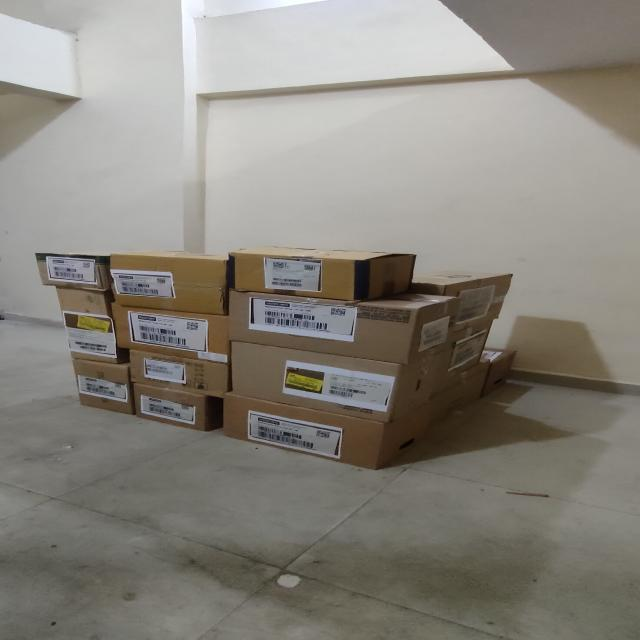BoxFace: (228, 340, 400, 422), (226, 293, 417, 363), (224, 393, 382, 469), (105, 250, 228, 314), (109, 303, 230, 363), (226, 252, 365, 302), (51, 285, 121, 363), (126, 348, 230, 396), (72, 358, 133, 414), (133, 383, 207, 429), (34, 252, 104, 290)
